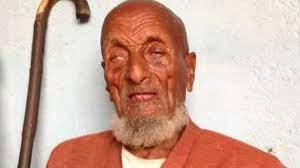Persons: (98, 2, 198, 157)
